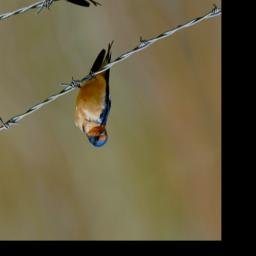Swallow: (54, 40, 144, 155)
